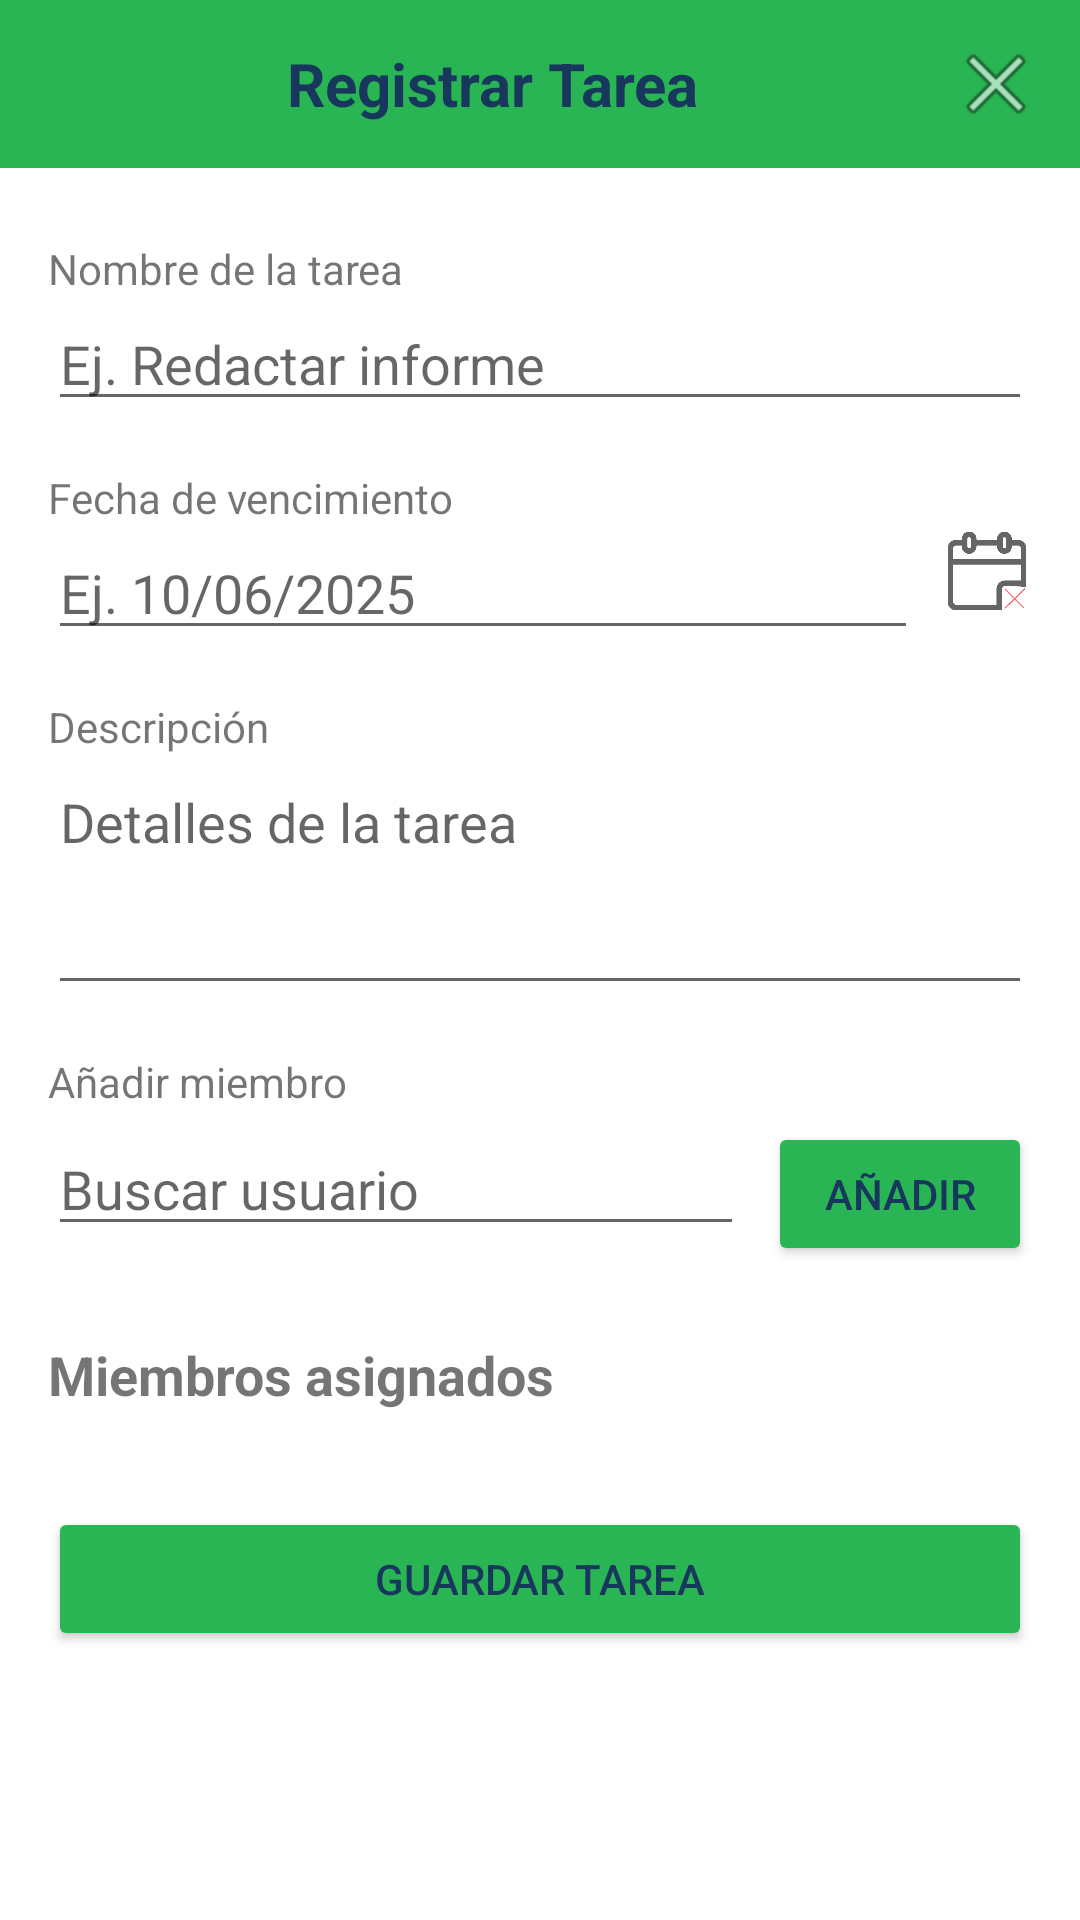

Named icons in this screenshot (1080w x 1920h) and their centers, [x,y]:
Cerrar: [996,84]
Seleccionar fecha: [987,571]
